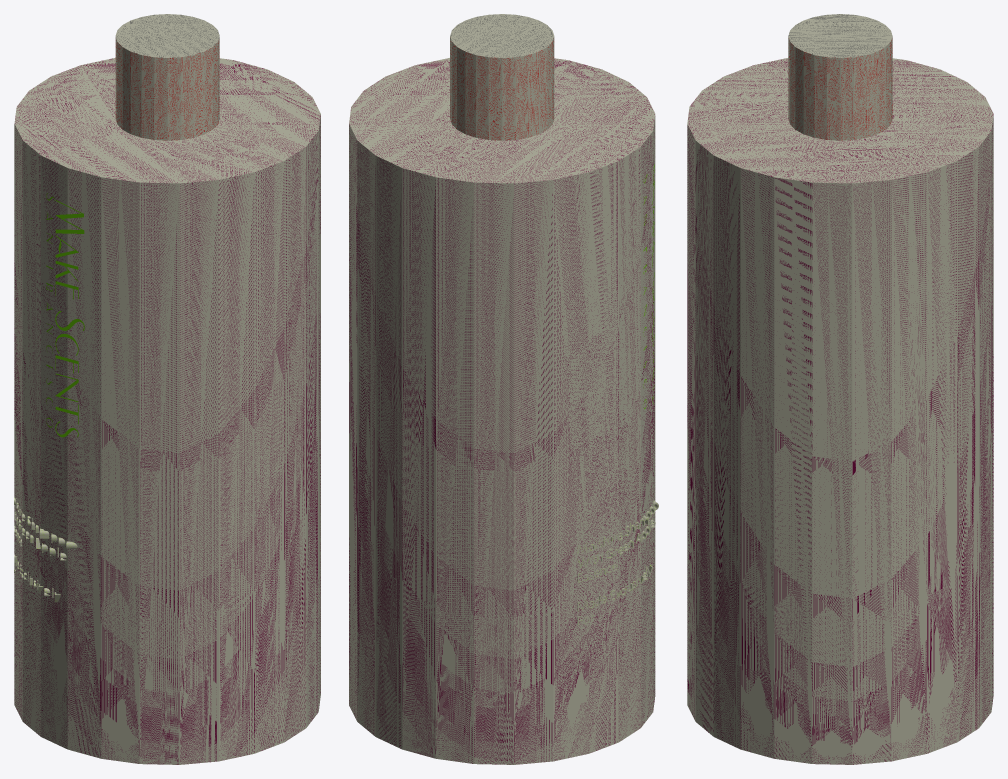
3 renders of one model, left to right at view 1: azimuth 30°, elevation 25°; view 2: azimuth 150°, elevation 25°; view 3: azimuth 270°, elevation 25°, orthographic.
Parts seen in each view (by area): view 1: mesh23_mesh23-geometry; view 2: mesh23_mesh23-geometry; view 3: mesh23_mesh23-geometry.
Boxes of the visible parts, x1,y1,x2,y2 form: mesh23_mesh23-geometry: (14,14,320,764); mesh23_mesh23-geometry: (349,14,658,764); mesh23_mesh23-geometry: (687,14,993,764).
Bounding box in the file's own units: 0.3655 × 0.8588 × 0.359.
